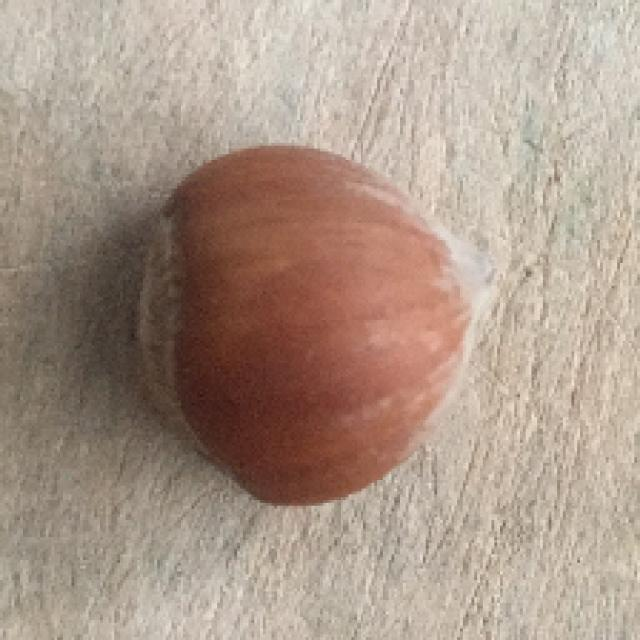qualityHazelnut: (135, 145, 497, 504)
